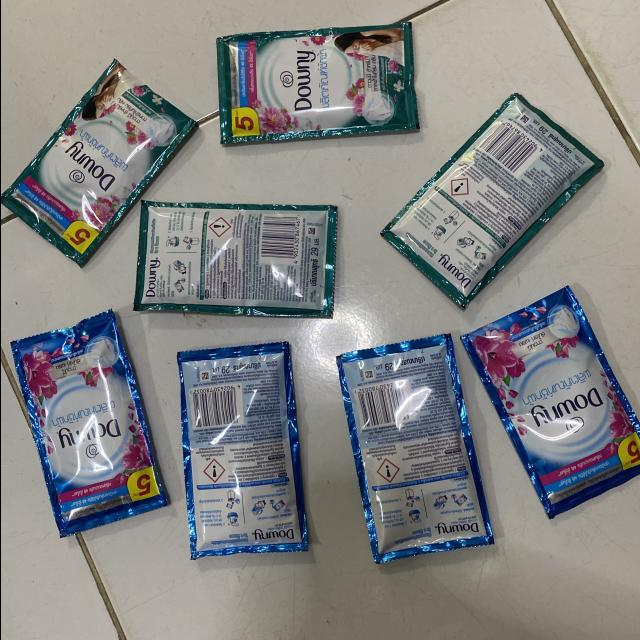plastik: (381, 94, 602, 306), (461, 287, 640, 517), (0, 60, 195, 266), (336, 334, 493, 562), (10, 312, 166, 537), (176, 342, 307, 559), (216, 23, 418, 144), (133, 201, 336, 318)
